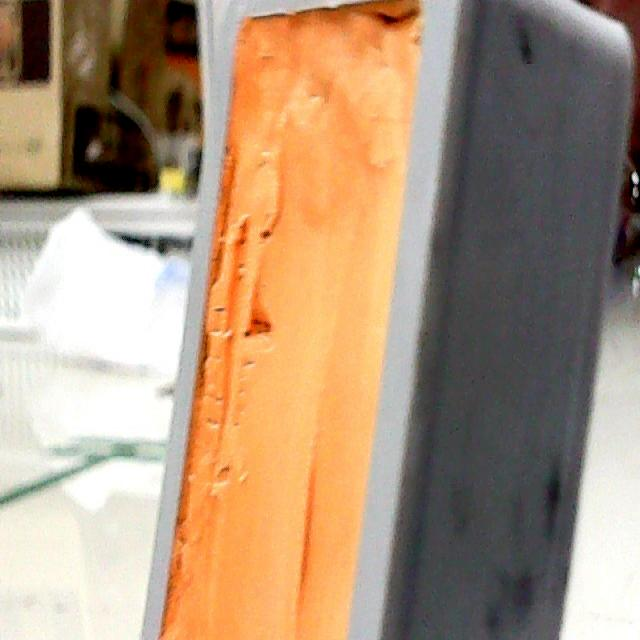block: (138, 0, 640, 640)
